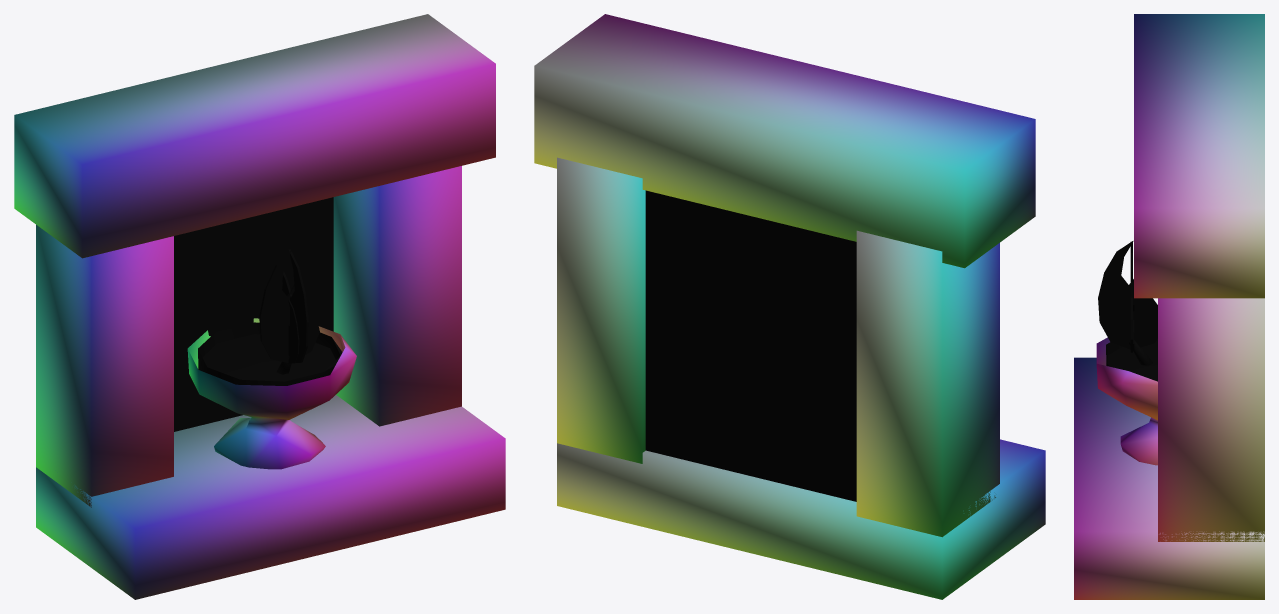
File: SM_Pit_NicheLamp_Lit_LOD1.fbx
3 views of the same model, side by side, from view 1: azimuth 30°, elevation 25°; view 2: azimuth 150°, elevation 25°; view 3: azimuth 270°, elevation 25° (orthographic). The views are drawn at different scales.
Visible parts, largest first — view 1: SM_Pit_NicheLamp_Lit_LOD1; view 2: SM_Pit_NicheLamp_Lit_LOD1; view 3: SM_Pit_NicheLamp_Lit_LOD1.
Boxes of the visible parts, x1=… form: SM_Pit_NicheLamp_Lit_LOD1: x1=14, y1=14, x2=505, y2=599; SM_Pit_NicheLamp_Lit_LOD1: x1=534, y1=14, x2=1045, y2=599; SM_Pit_NicheLamp_Lit_LOD1: x1=1074, y1=14, x2=1264, y2=599.
Size of the model in its own units: 0.5744 by 0.5544 by 0.2384.
